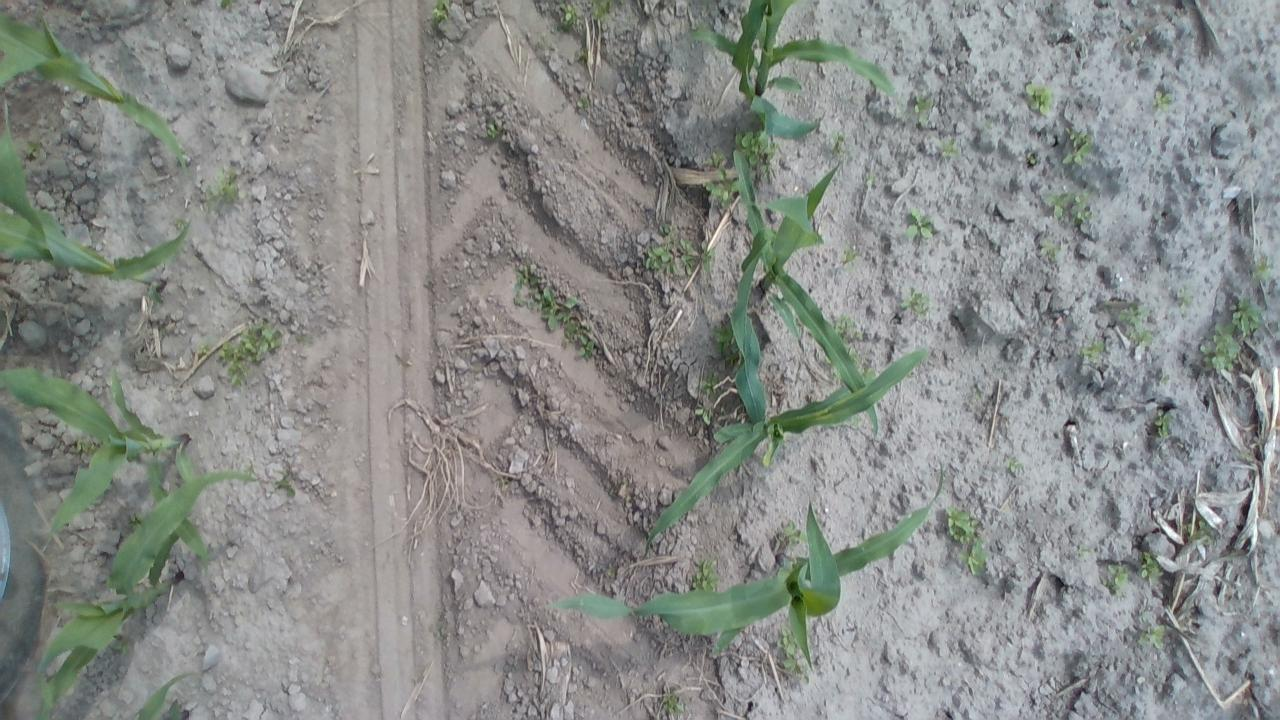Maize: (641, 291, 932, 561), (547, 489, 936, 671), (28, 459, 259, 720), (0, 352, 235, 566), (727, 140, 871, 440), (0, 98, 197, 288), (0, 8, 195, 176), (682, 0, 905, 134), (127, 660, 216, 718)
Weeds: (516, 266, 586, 336), (1198, 298, 1260, 374), (216, 319, 282, 386), (943, 502, 992, 578), (1221, 292, 1262, 354), (1114, 298, 1158, 346), (1044, 186, 1094, 228), (642, 235, 692, 276), (203, 166, 244, 210), (734, 126, 777, 166), (776, 626, 804, 676), (566, 320, 599, 360), (1061, 128, 1093, 169), (713, 318, 738, 362), (1025, 82, 1056, 117), (689, 558, 720, 592), (905, 207, 933, 243), (900, 286, 931, 318), (701, 181, 740, 205), (688, 241, 718, 272), (1105, 562, 1131, 596), (1138, 549, 1163, 584), (910, 93, 934, 126), (1080, 335, 1108, 362), (659, 691, 689, 716), (778, 521, 806, 547), (1188, 517, 1214, 545), (1141, 624, 1169, 650), (1247, 254, 1273, 281), (554, 1, 578, 30), (276, 470, 298, 501), (937, 136, 963, 160), (837, 244, 860, 271), (589, 0, 616, 23), (836, 314, 857, 342), (1154, 412, 1174, 441), (1040, 238, 1061, 264), (69, 436, 99, 454), (700, 371, 720, 398), (1174, 288, 1196, 312), (828, 130, 848, 156), (431, 1, 453, 24), (1153, 90, 1174, 114), (573, 90, 593, 114), (1002, 454, 1027, 473), (484, 120, 506, 141), (23, 138, 44, 160), (432, 619, 452, 641), (192, 340, 213, 358), (696, 405, 714, 425), (1070, 544, 1092, 560), (982, 115, 998, 136), (149, 284, 164, 304), (707, 152, 728, 166), (113, 636, 129, 654), (574, 43, 588, 63), (171, 217, 188, 233), (241, 466, 258, 481), (1025, 150, 1039, 168), (861, 172, 876, 188), (219, 0, 237, 9)
